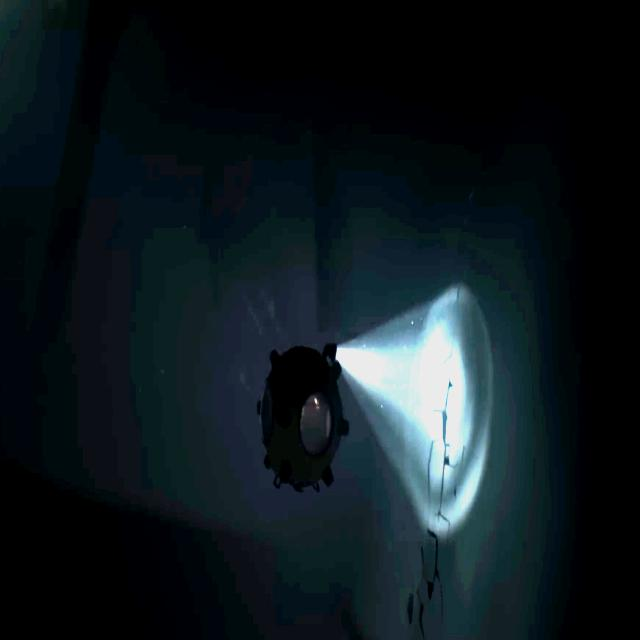submarine: (257, 342, 350, 494)
